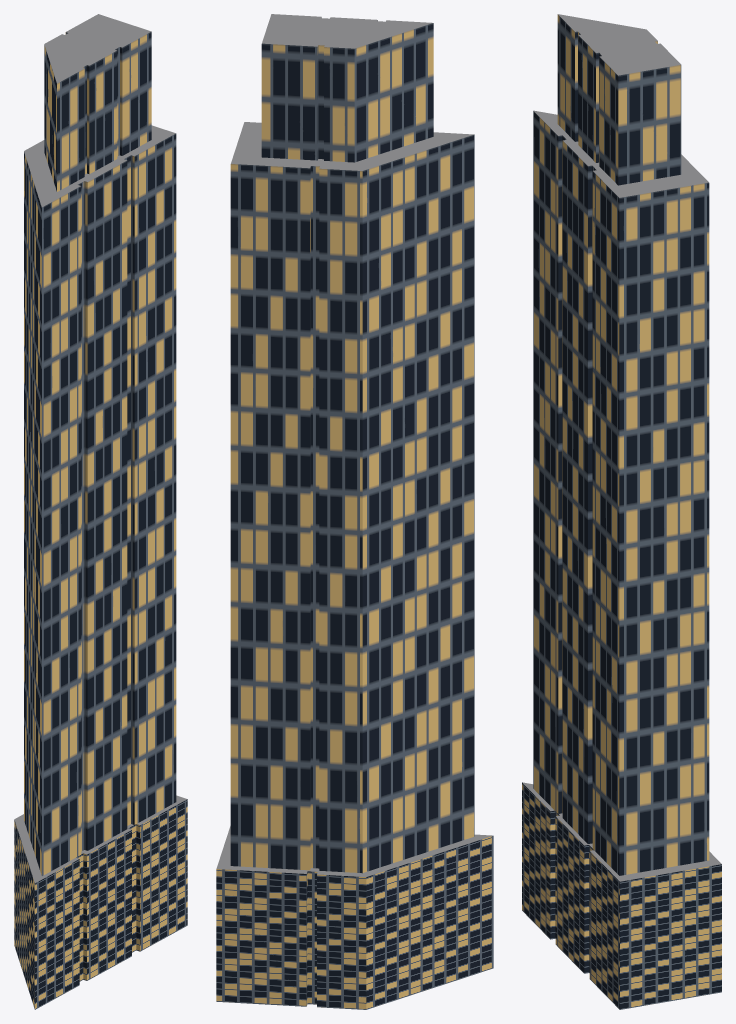
The model's file is carrara-tower.glb.
3 views of the same model, side by side, from view 1: azimuth 30°, elevation 25°; view 2: azimuth 150°, elevation 25°; view 3: azimuth 270°, elevation 25° (orthographic). The views are drawn at different scales.
Visible parts, largest first — view 1: carrara-tower; view 2: carrara-tower; view 3: carrara-tower.
Boxes of the visible parts, <box> form: carrara-tower: <box>14,14,187,1009</box>; carrara-tower: <box>216,14,493,1009</box>; carrara-tower: <box>522,14,721,1009</box>.
Size of the model in its own units: 0.4608 by 1.98 by 0.3918.
Materials: 2 (1 with a texture image).
